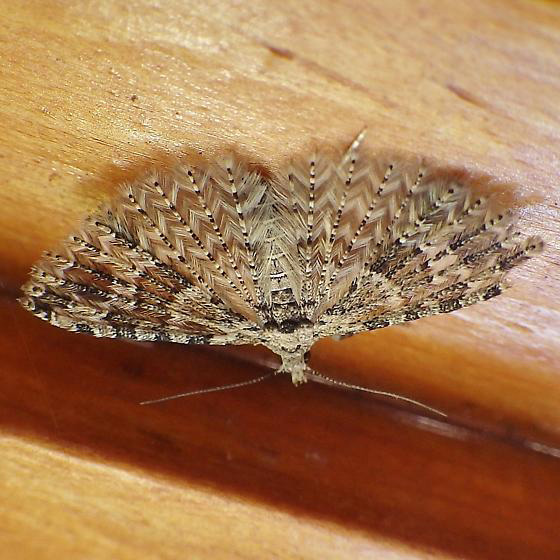Alucitidae: (10, 129, 545, 420)
moth: (12, 131, 547, 422)
